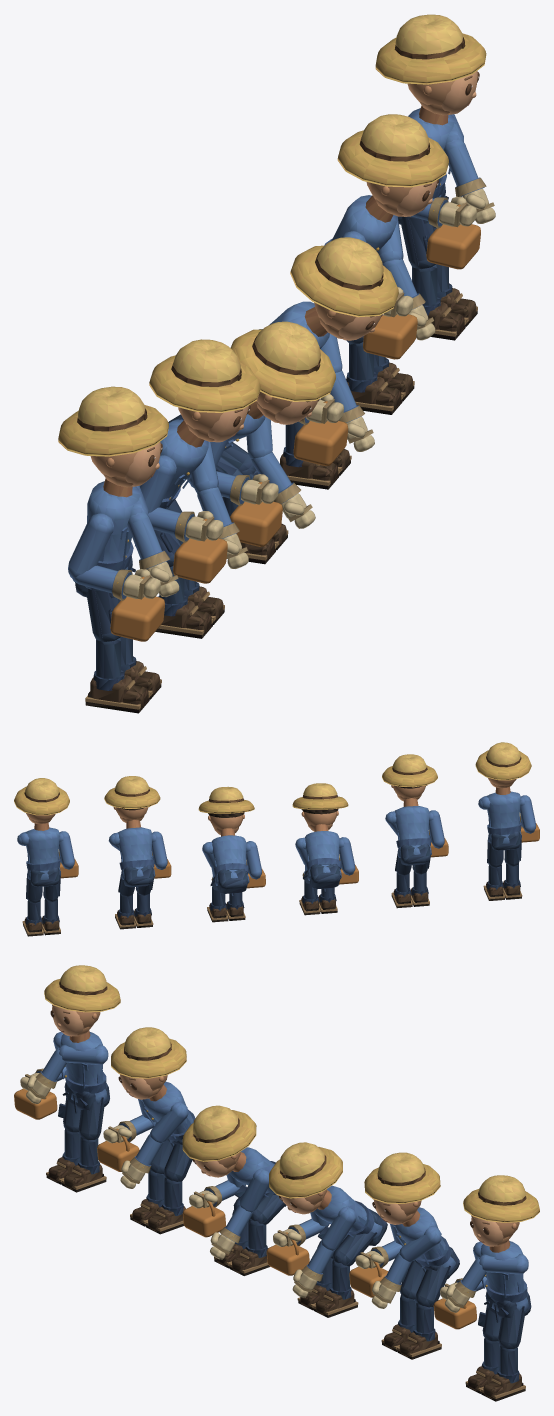
Rendered from audit-hf-player-farmhand-harvest-front.glb.
3 renders of one model, top to bottom at view 1: azimuth 30°, elevation 25°; view 2: azimuth 150°, elevation 25°; view 3: azimuth 270°, elevation 25°, orthographic. The views are drawn at different scales.
Visible parts, largest first — view 1: strawHat (×6), harvestBasket (×6), rightShin (×5), head (×6), denimJacketTorso (×5), rightHandMesh (×4), leftShin (×4), leftHandMesh (×4), leftLowerArm (×3), rightUpperArm (×2), rightThigh (×2), rightLowerArm; view 2: denimJacketTorso (×6), strawHat (×6), trouserHips (×6), leftShin (×6), rightShin (×6), rightUpperArm (×6), head (×4), leftThigh (×2), rightThigh (×2); view 3: strawHat (×6), denimJacketTorso (×6), leftShin (×6), harvestBasket (×6), head (×6), leftUpperArm (×6), leftThigh (×6), rightShin (×5), leftHandMesh (×6), rightHandMesh (×4), rightThigh (×3), trouserHips (×2).
Part boxes in pixels (x1,y1,x2,y2): strawHat (×6): [58, 14, 486, 456]; harvestBasket (×6): [110, 224, 480, 641]; rightShin (×5): [85, 264, 466, 713]; head (×6): [90, 71, 479, 487]; denimJacketTorso (×5): [85, 105, 455, 591]; rightHandMesh (×4): [112, 196, 476, 600]; leftShin (×4): [120, 264, 477, 699]; leftHandMesh (×4): [139, 178, 495, 596]; leftLowerArm (×3): [127, 139, 484, 569]; rightUpperArm (×2): [68, 455, 176, 578]; rightThigh (×2): [86, 216, 435, 641]; rightLowerArm: [72, 565, 131, 598]; denimJacketTorso (×6): [26, 787, 521, 885]; strawHat (×6): [14, 742, 531, 815]; trouserHips (×6): [29, 831, 520, 896]; leftShin (×6): [22, 865, 505, 936]; rightShin (×6): [42, 863, 522, 935]; rightUpperArm (×6): [58, 795, 536, 878]; head (×4): [113, 785, 427, 834]; leftThigh (×2): [26, 837, 503, 903]; rightThigh (×2): [43, 835, 521, 901]; strawHat (×6): [44, 965, 539, 1222]; denimJacketTorso (×6): [60, 1030, 528, 1311]; leftShin (×6): [61, 1136, 525, 1401]; harvestBasket (×6): [14, 1088, 476, 1329]; head (×6): [50, 1005, 519, 1246]; leftUpperArm (×6): [59, 1044, 528, 1274]; leftThigh (×6): [78, 1097, 525, 1348]; rightShin (×5): [46, 1129, 499, 1393]; leftHandMesh (×6): [26, 1072, 475, 1312]; rightHandMesh (×4): [103, 1121, 388, 1268]; rightThigh (×3): [58, 1098, 501, 1341]; trouserHips (×2): [62, 1082, 531, 1322].
Size of what is drawn, in the model's own units: 6.01 by 2.4 by 5.48.
